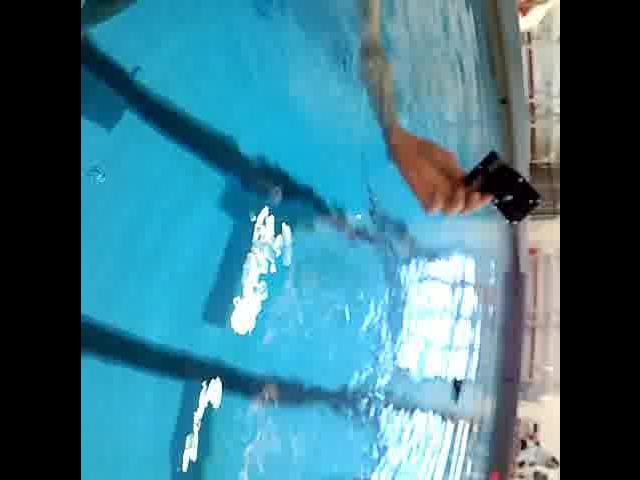CamMount: (458, 147, 542, 231), (447, 370, 467, 407)
